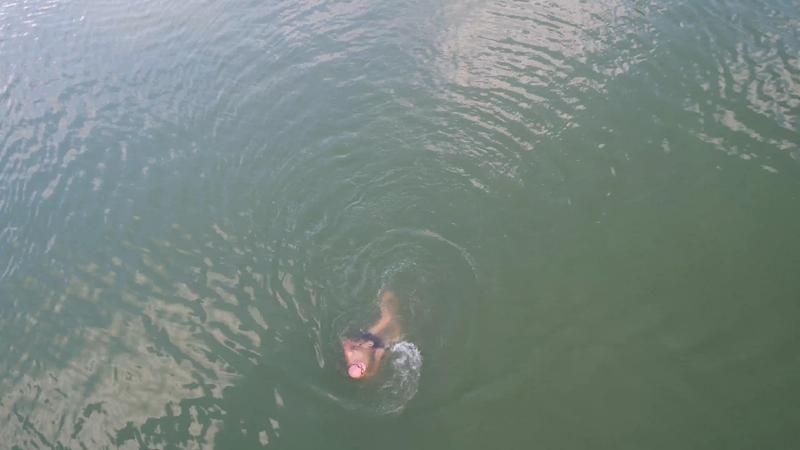swimmers: (341, 287, 400, 382)
